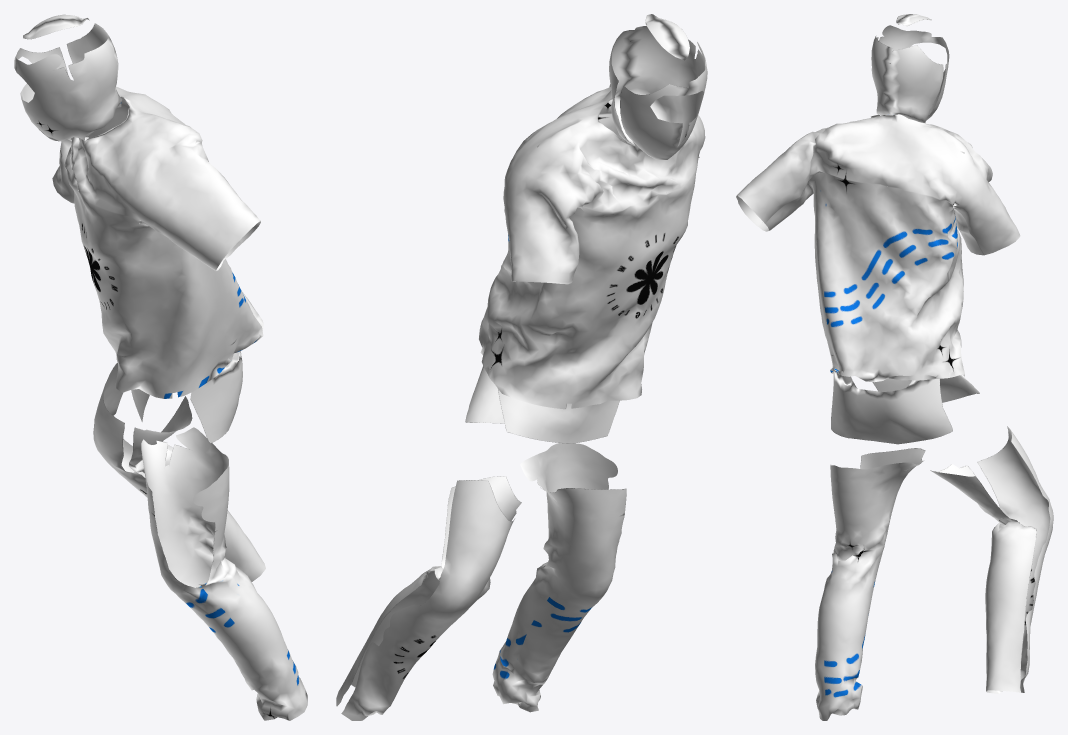
The model's file is all11.fbx.
3 views of the same model, side by side, from view 1: azimuth 30°, elevation 25°; view 2: azimuth 150°, elevation 25°; view 3: azimuth 270°, elevation 25° (orthographic). The views are drawn at different scales.
Parts seen in each view (by area): view 1: cloth_parent; view 2: cloth_parent; view 3: cloth_parent.
Boxes of the visible parts, box(x1,y1,x2,y2) form: cloth_parent: box(14, 14, 307, 720); cloth_parent: box(336, 14, 707, 720); cloth_parent: box(736, 14, 1053, 720).
Size of the model in its own units: 66.83 by 156 by 71.8.
1 material, 1 textured.
